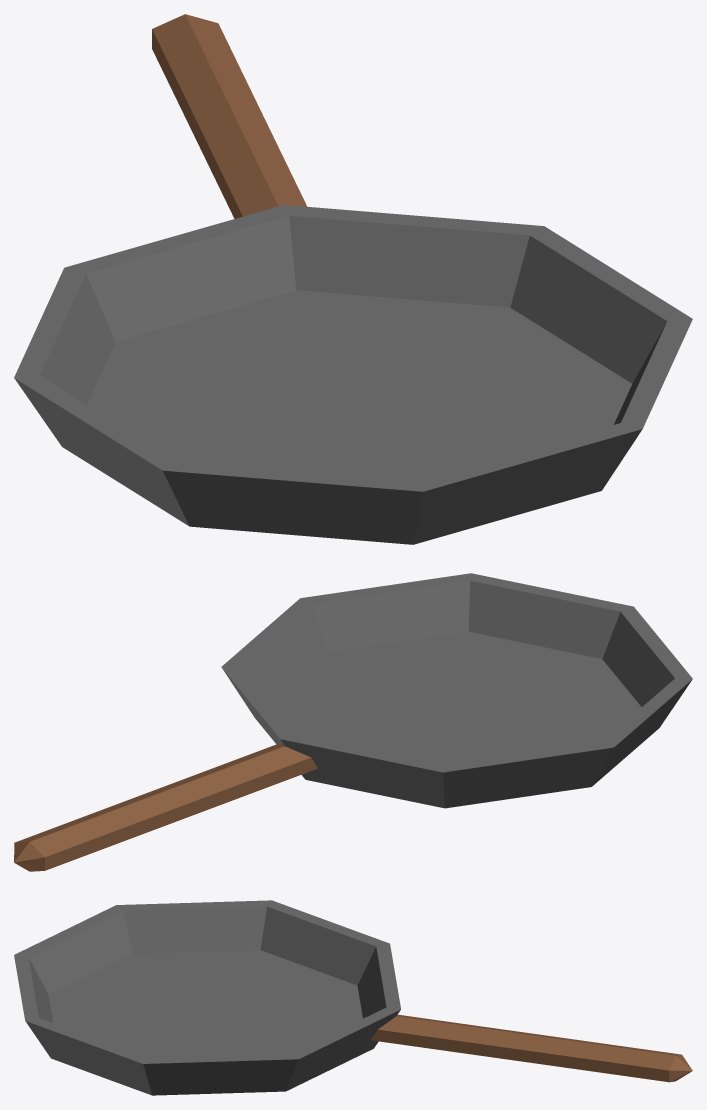
Rendered from FryingPan.fbx.
3 renders of one model, top to bottom at view 1: azimuth 30°, elevation 25°; view 2: azimuth 150°, elevation 25°; view 3: azimuth 270°, elevation 25°, orthographic. The views are drawn at different scales.
Parts seen in each view (by area): view 1: FryingPan; view 2: FryingPan; view 3: FryingPan.
Boxes of the visible parts, x1,y1,x2,y2 form: FryingPan: (14,14,692,544); FryingPan: (14,573,692,871); FryingPan: (14,900,692,1095).
Bounding box in the file's own units: 34.18 × 4.21 × 59.94.
